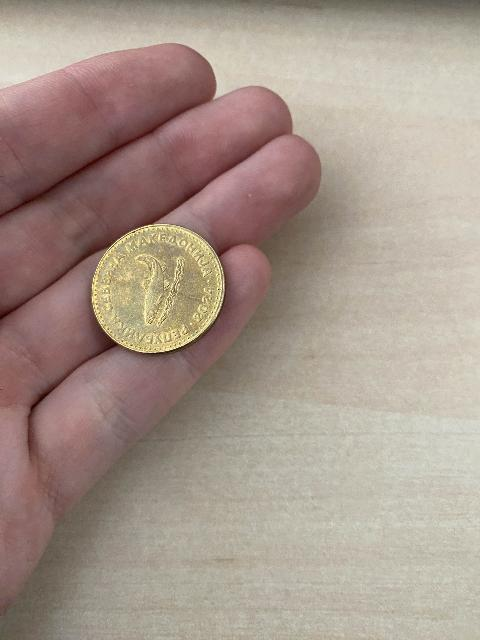2_coin: (92, 225, 224, 352)
